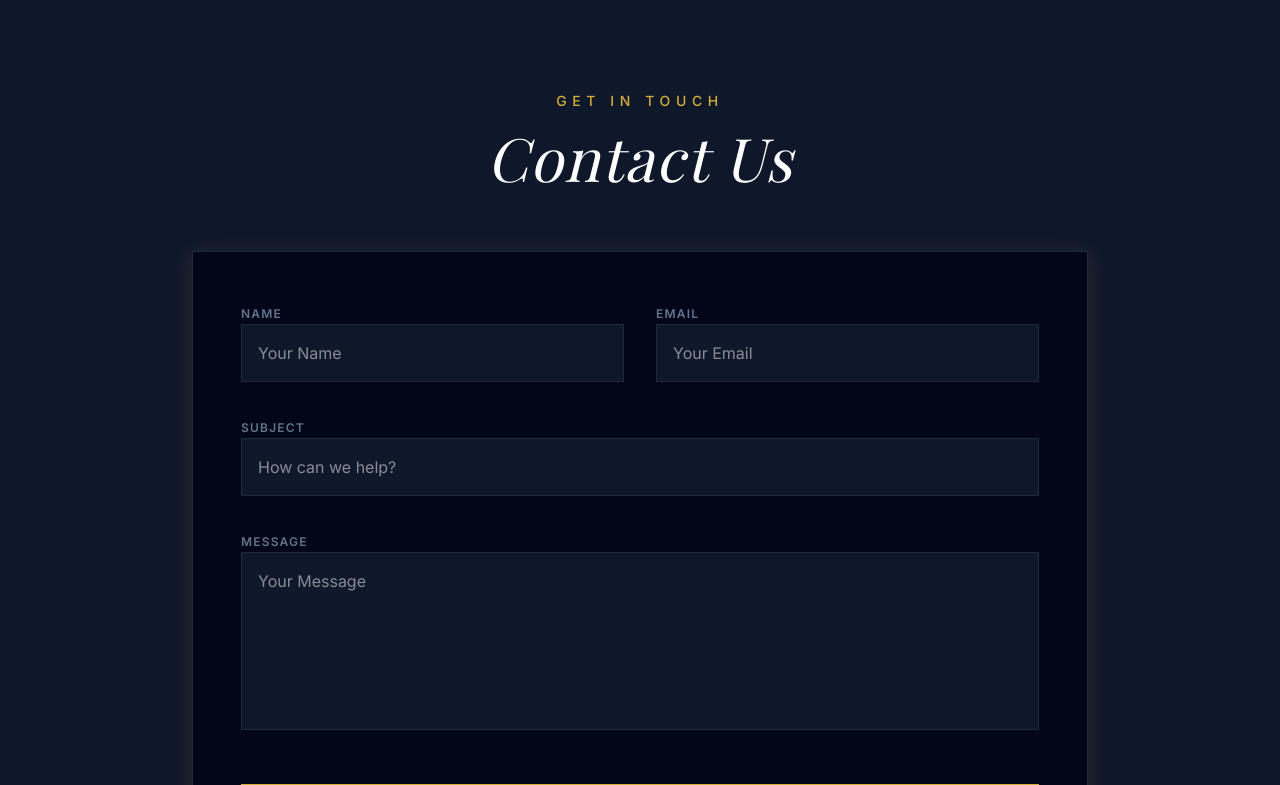
Test: ContactForm Component › submits correctly with valid data
Type "John Doe" into the field labelled "Name".
click(432, 353); type("John Doe")  # box 241,324 -> 624,382
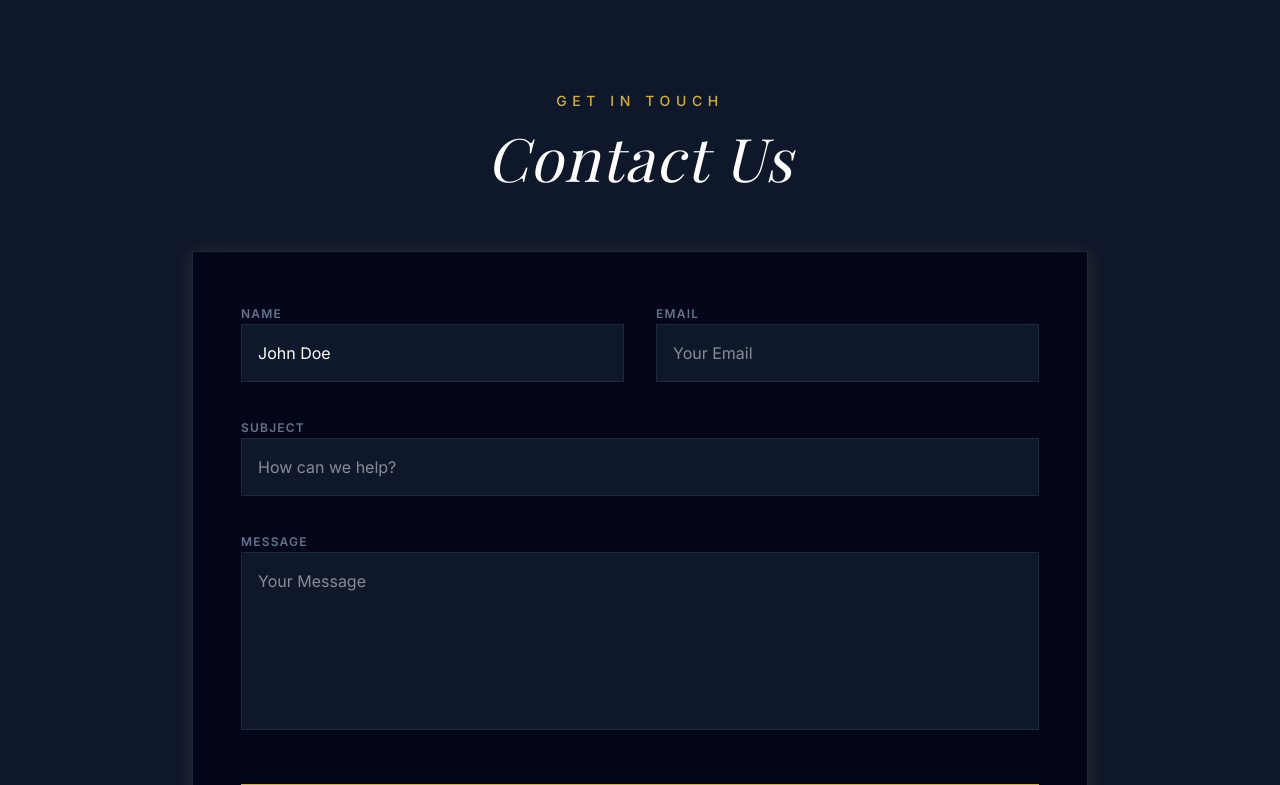
Type "john@example.com" into the field labelled "Email".
click(848, 353); type("john@example.com")  # box 656,324 -> 1039,382
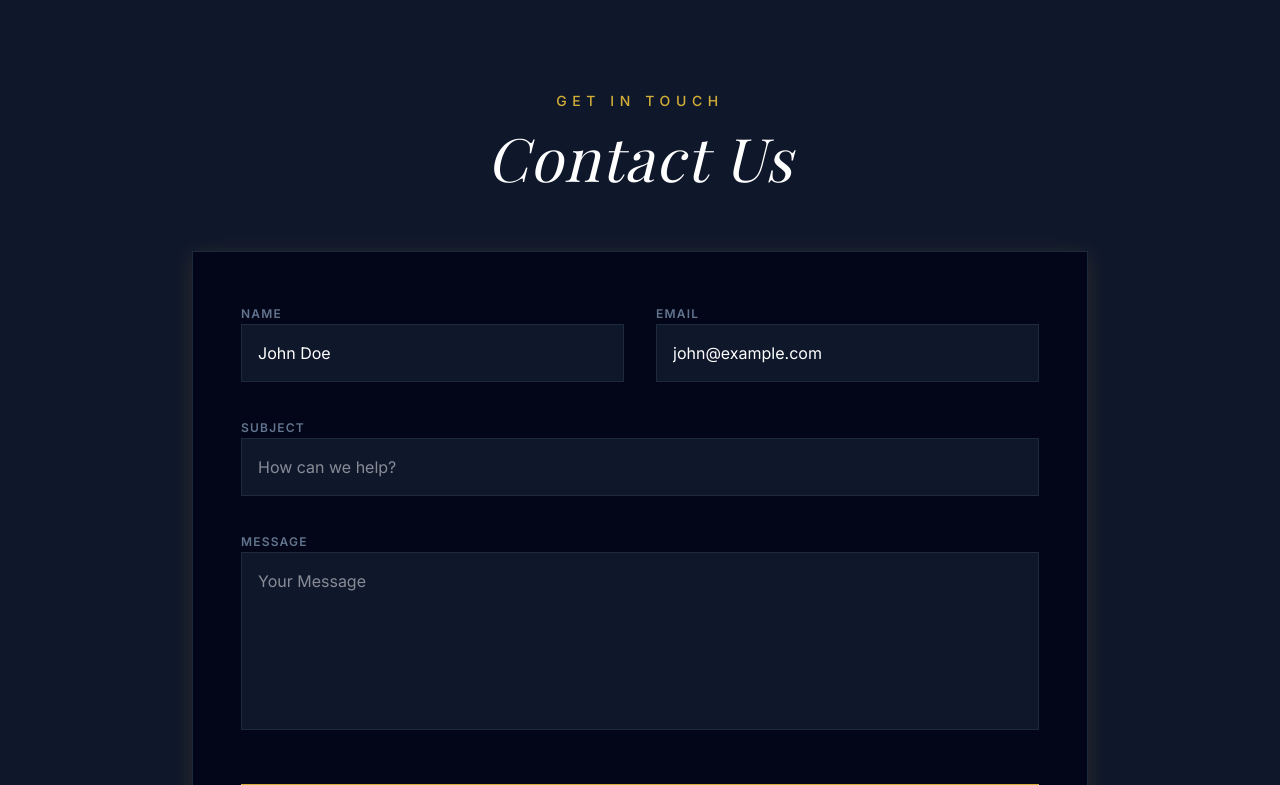
Type "Inquiry" into the field labelled "Subject".
click(640, 467); type("Inquiry")  # box 241,438 -> 1039,496
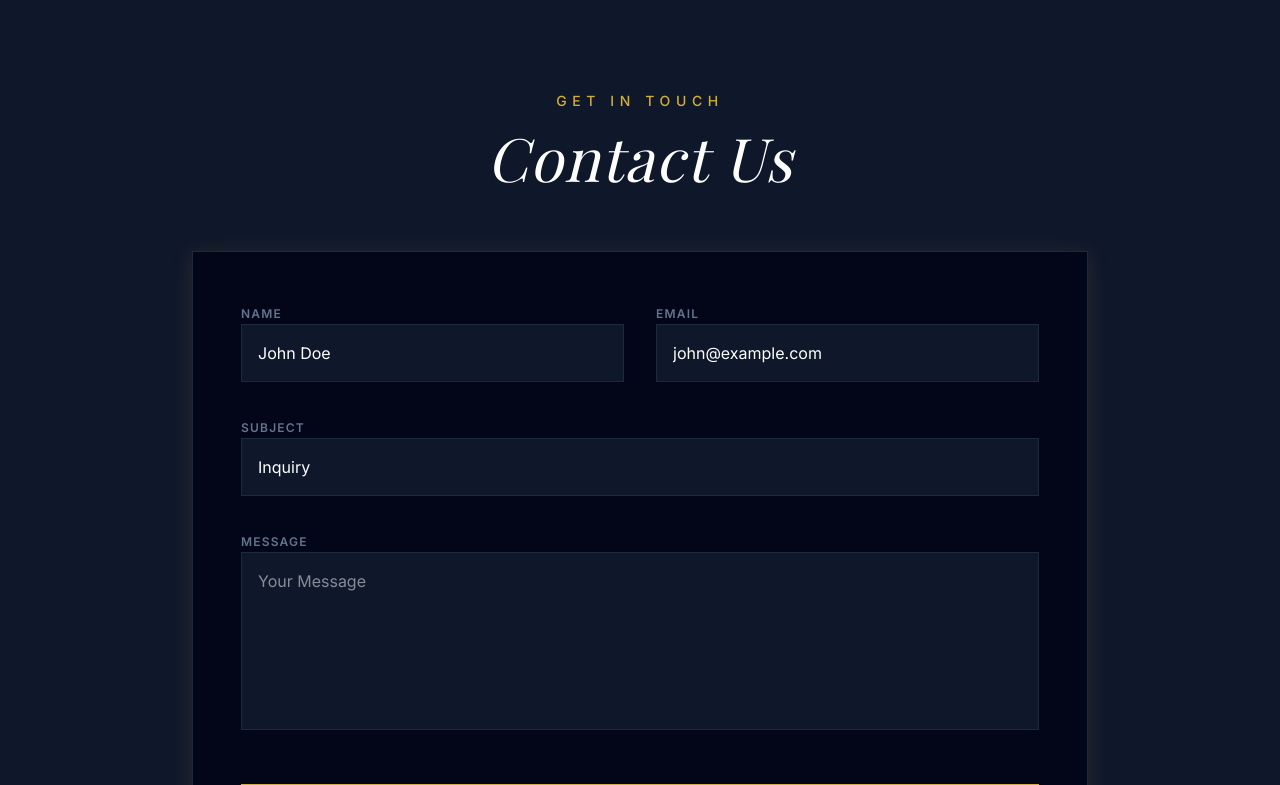
Type "Test message" into the text box labelled "Message".
click(640, 641); type("Test message")  # box 241,552 -> 1039,730
(page scrolled)
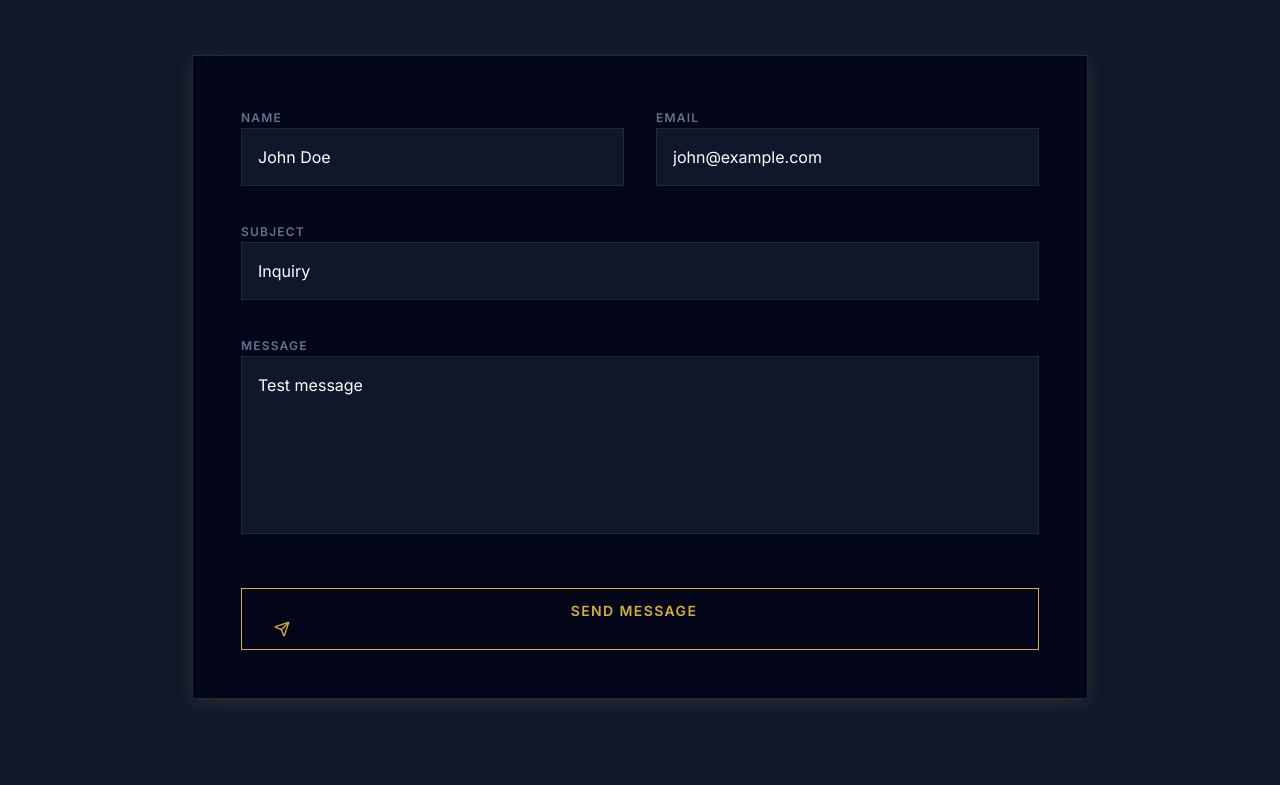
Click the button "Send Message".
click(640, 619)  # box 241,588 -> 1039,650
(page scrolled)
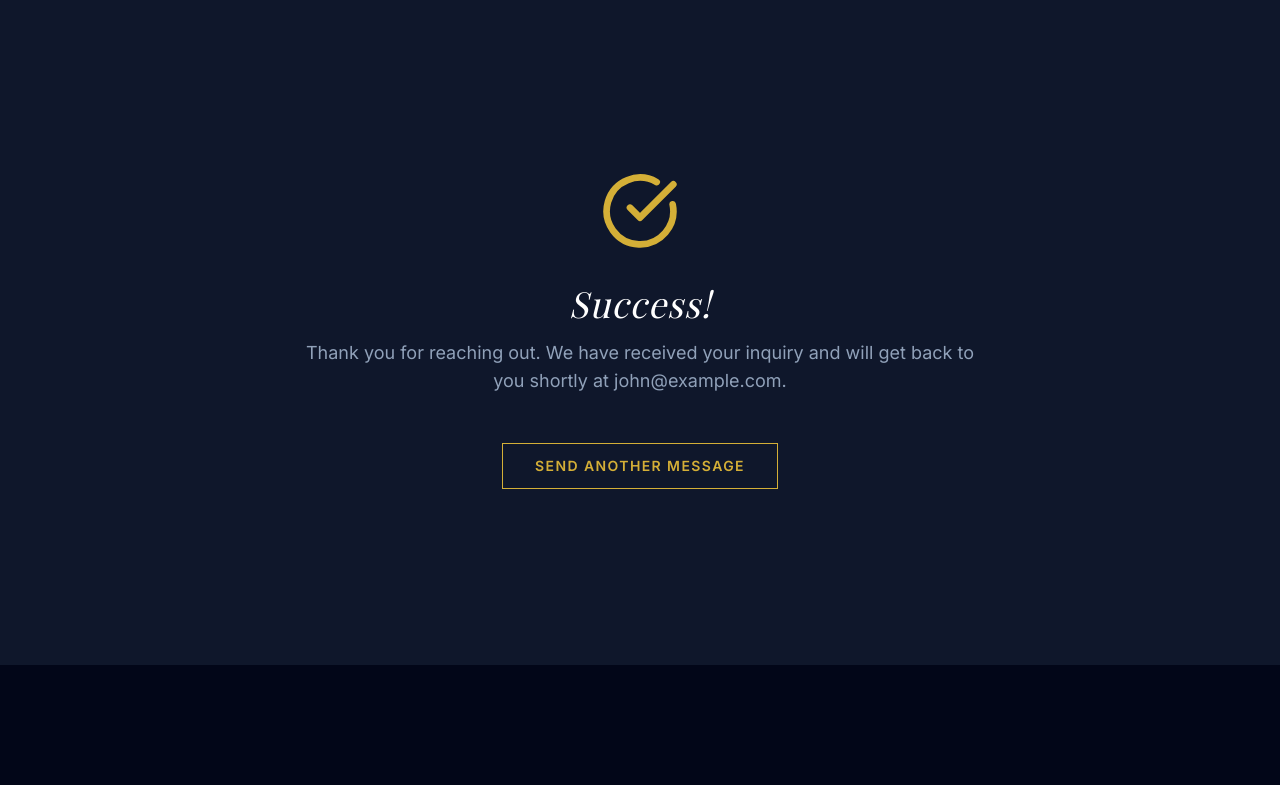
Now the heading "Success!" is shown, box 569,279 -> 711,327
